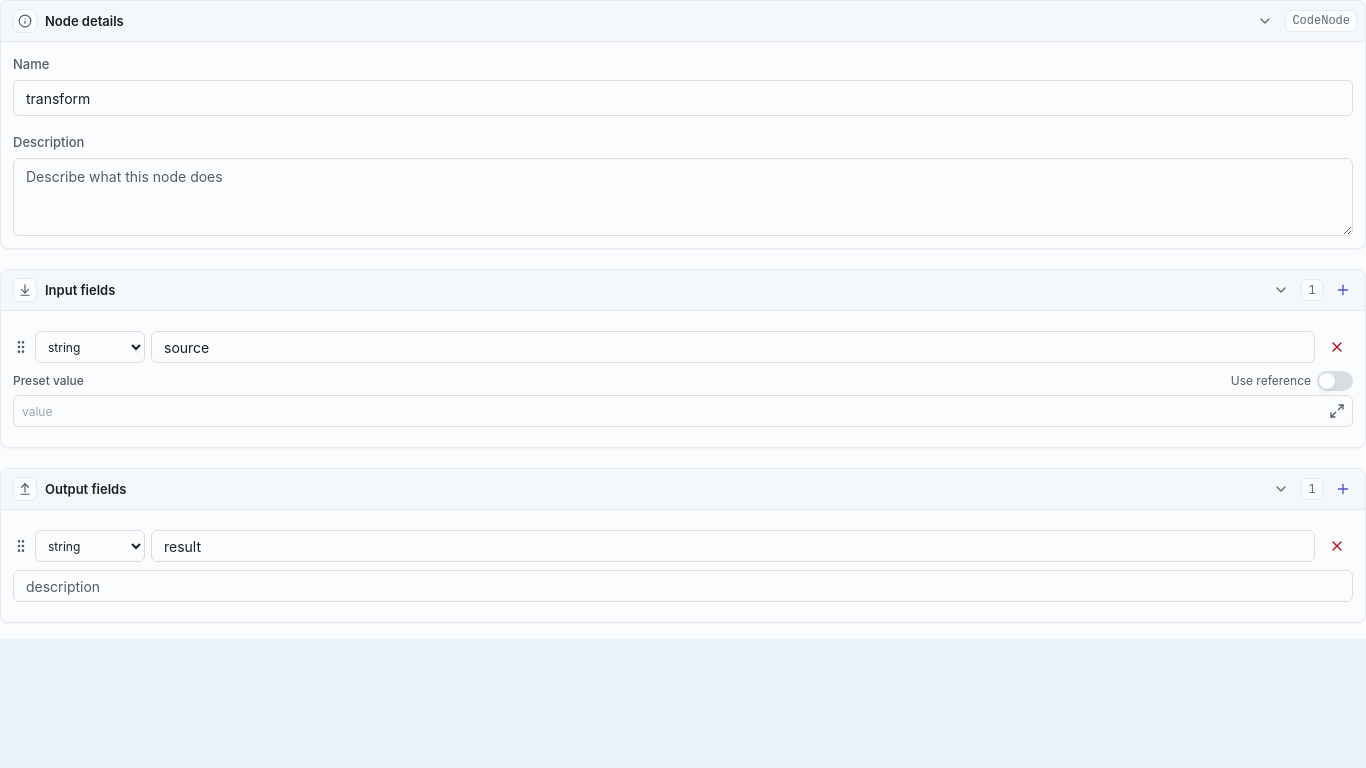
Test: NodeTab — non-mirroring node has editable outputs › renders clearly bounded, independently collapsible inspector blocks
This screenshot has width=1366, height=768.
Expected: the element with test id "inspector-section-details" is shown, [0,0,1365,249]
Expected: the element with test id "fields-editor-input" is shown, [0,269,1365,448]
Click the button with aria-label "Collapse Input fields": (80, 290) [9,276,1293,304]
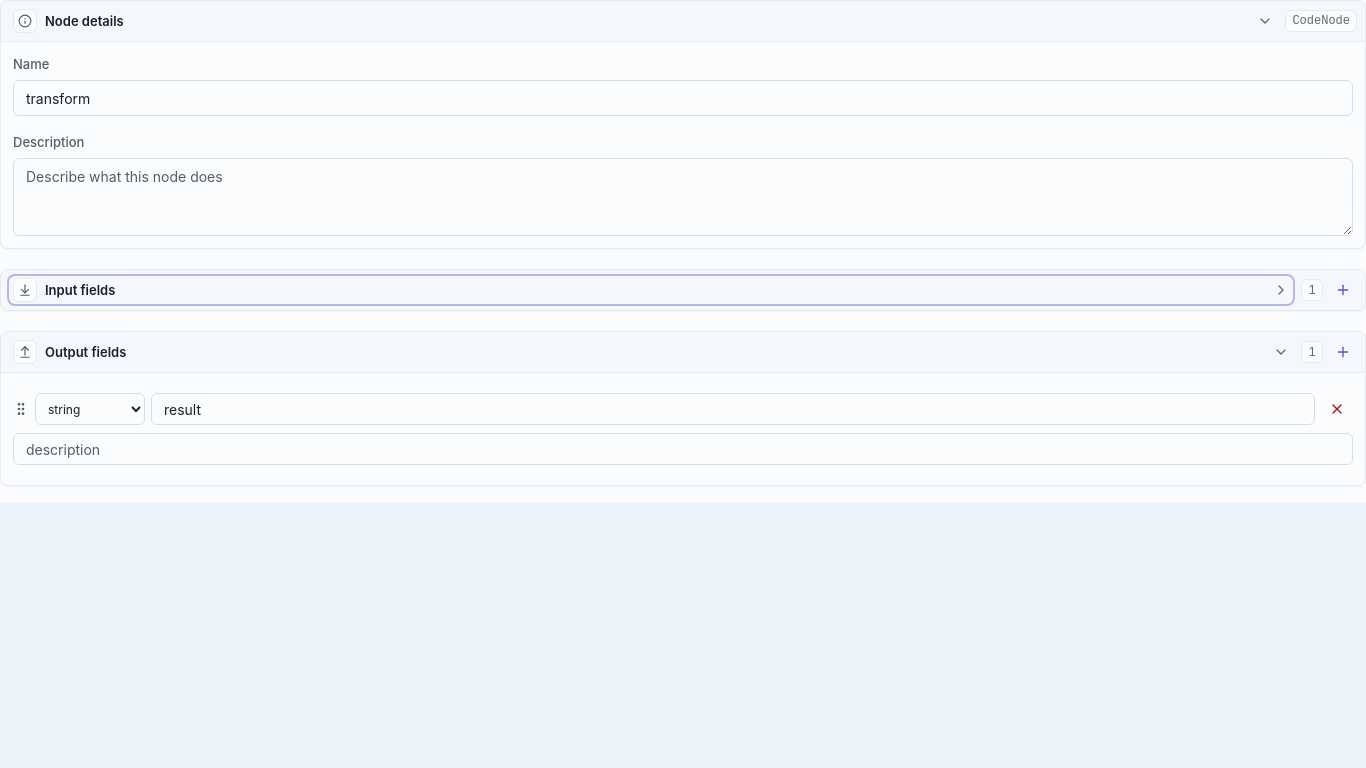
Now the button with aria-label "Expand Input fields" is collapsed, box [9,276,1293,304]
